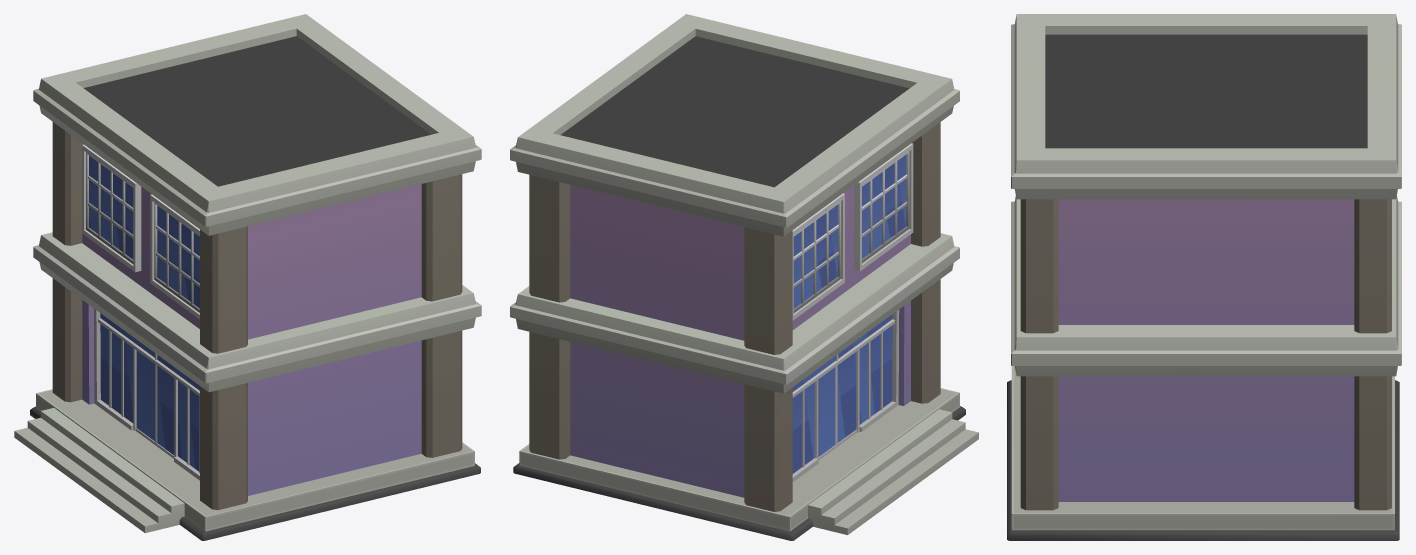
Rendered from Building_9_2_NN.fbx.
3 renders of one model, left to right at view 1: azimuth 30°, elevation 25°; view 2: azimuth 150°, elevation 25°; view 3: azimuth 270°, elevation 25°, orthographic. The views are drawn at different scales.
Parts seen in each view (by area): view 1: Building_9_2_NN; view 2: Building_9_2_NN; view 3: Building_9_2_NN.
Boxes of the visible parts, bbox=[...] form: Building_9_2_NN: bbox=[14, 14, 481, 540]; Building_9_2_NN: bbox=[510, 14, 978, 540]; Building_9_2_NN: bbox=[1007, 14, 1401, 540].
Bounding box in the file's own units: 947 × 958 × 906.
